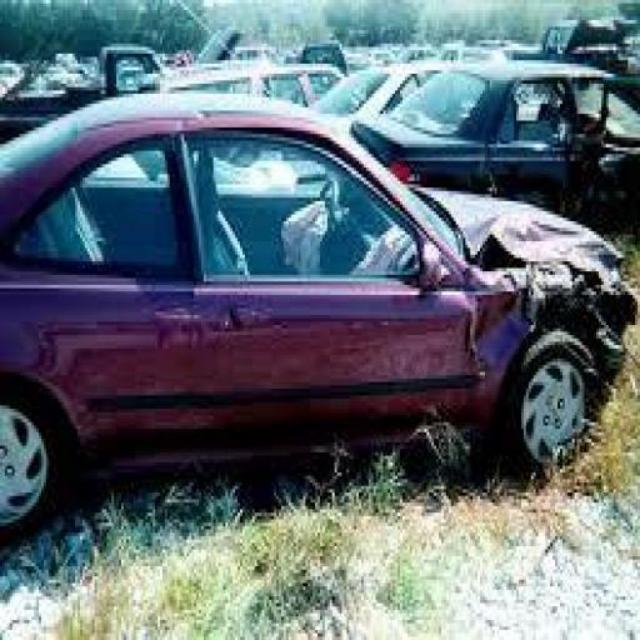crash: (420, 180, 640, 405)
